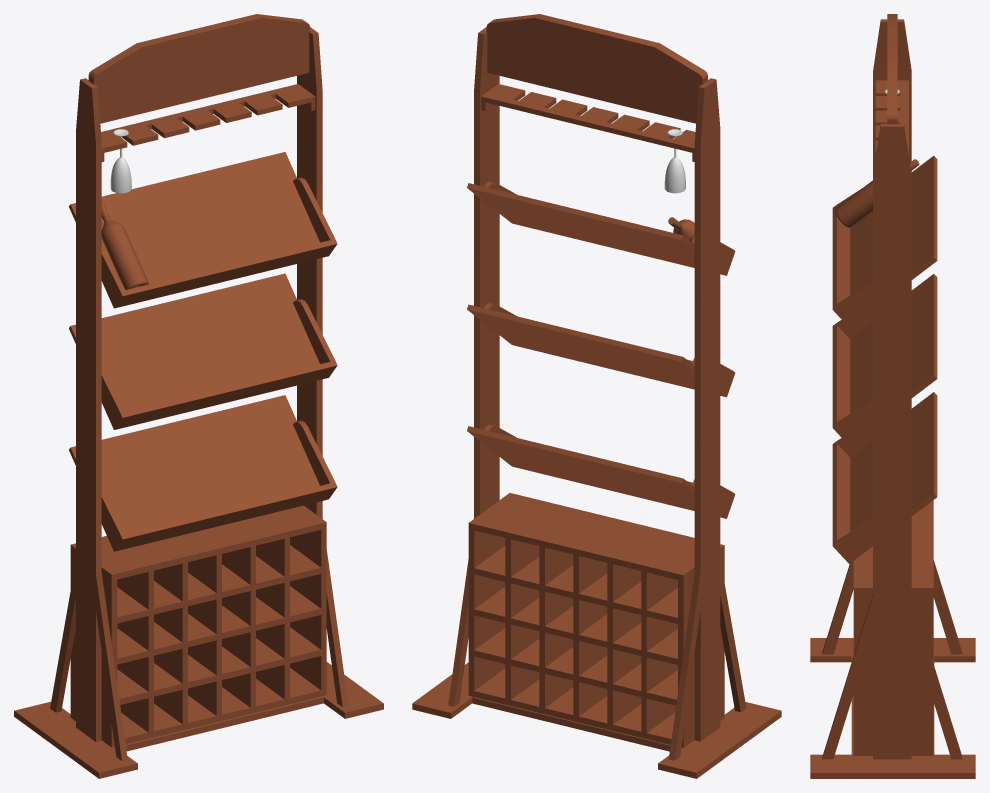
File: Winestand.fbx
3 views of the same model, side by side, from view 1: azimuth 30°, elevation 25°; view 2: azimuth 150°, elevation 25°; view 3: azimuth 270°, elevation 25° (orthographic). The views are drawn at different scales.
Parts seen in each view (by area): view 1: Winestand, Wine_Bottel, Wine_glass; view 2: Winestand, Wine_glass; view 3: Winestand, Wine_Bottel.
Boxes of the visible parts, bbox=[...] form: Winestand: bbox=[14, 14, 383, 778]; Wine_Bottel: bbox=[101, 200, 148, 289]; Wine_glass: bbox=[110, 129, 131, 193]; Winestand: bbox=[412, 14, 781, 778]; Wine_glass: bbox=[664, 129, 685, 193]; Winestand: bbox=[810, 14, 975, 778]; Wine_Bottel: bbox=[835, 159, 919, 227].
Bounding box in the file's own units: 98.01 × 225 × 50.7.
